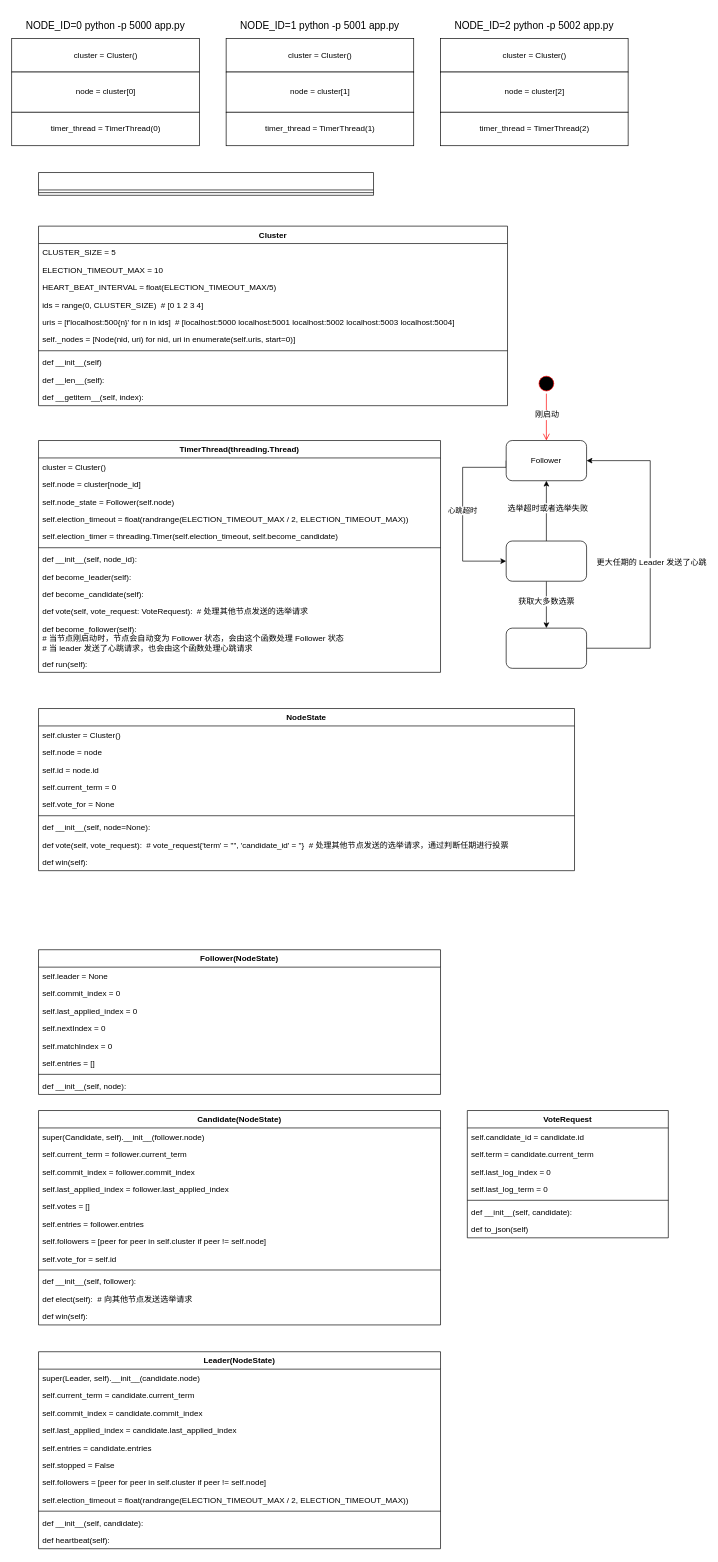
The diagram is 718 pixels wide and 1562 high, and some of its shapes have lost their labels. Here are the shapes that lost their labels. From the top down, the centre of each, then its label:
the point at 206,183: Node = collections.namedtuple('Node', ['id', 'uri'])
the point at 546,560: Candidate
the point at 546,647: Leader
